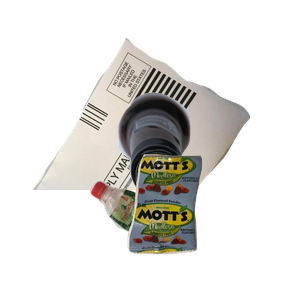glass: (115, 90, 300, 270)
paper: (31, 35, 271, 215)
plastic: (87, 178, 234, 300)
trash: (125, 152, 300, 300)
